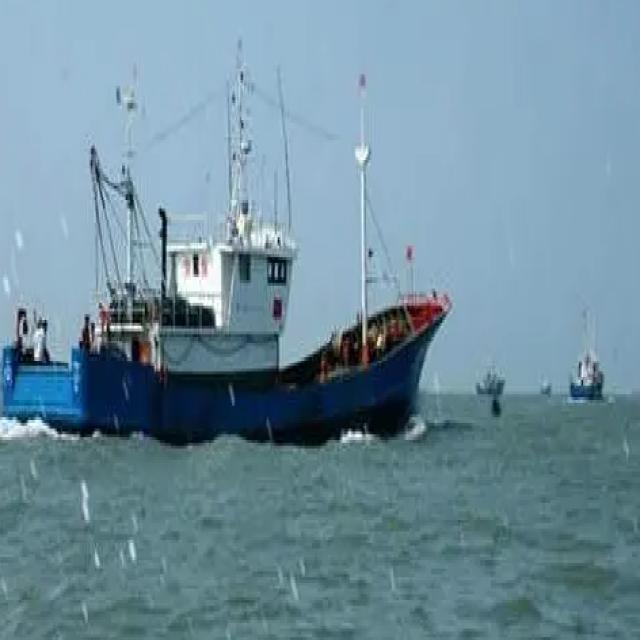fishing boat: (1, 60, 436, 444), (568, 324, 611, 399), (470, 351, 509, 402)
